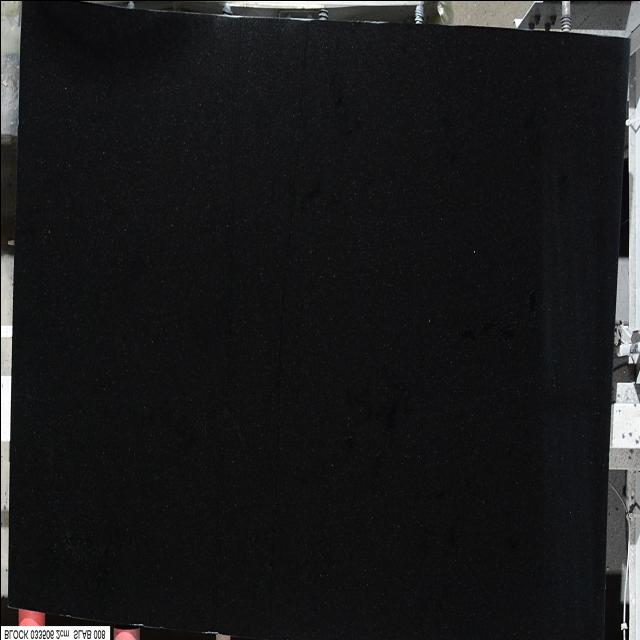chapa: (6, 2, 628, 638)
